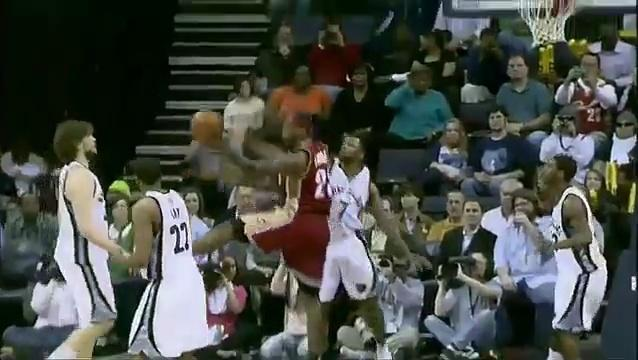Ball: (510, 0, 583, 47), (189, 110, 226, 146)
Person: (179, 97, 334, 360), (112, 152, 210, 360), (308, 133, 394, 360), (39, 114, 118, 360), (531, 151, 609, 360)
